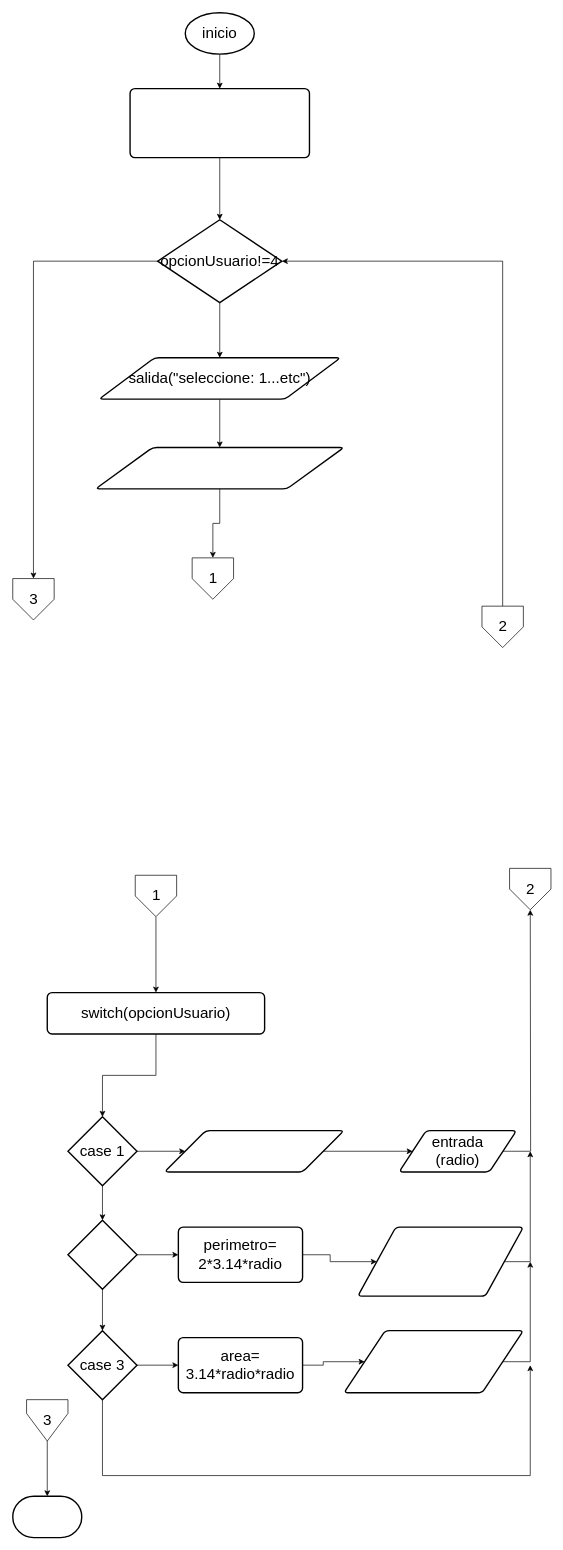
This 563x1550 diagram has some shape labels left out. The shapes that lost their labels are listed below. From the top down, each one's box as (x1, y1, x2, y2) in pixels, then its label:
(129, 88, 310, 158): int opcionUsuario=1; int radio=0; float perimetro=0; float area=0
(95, 446, 344, 489): entrada(opcionUsuario)
(164, 1130, 344, 1172): salida ("Ingrese el radio")
(67, 1219, 137, 1290): case 2
(357, 1226, 524, 1297): salida ("El perimetro es: perimetro")
(343, 1330, 524, 1393): salida ("El area es: area")
(12, 1495, 82, 1538): fin
